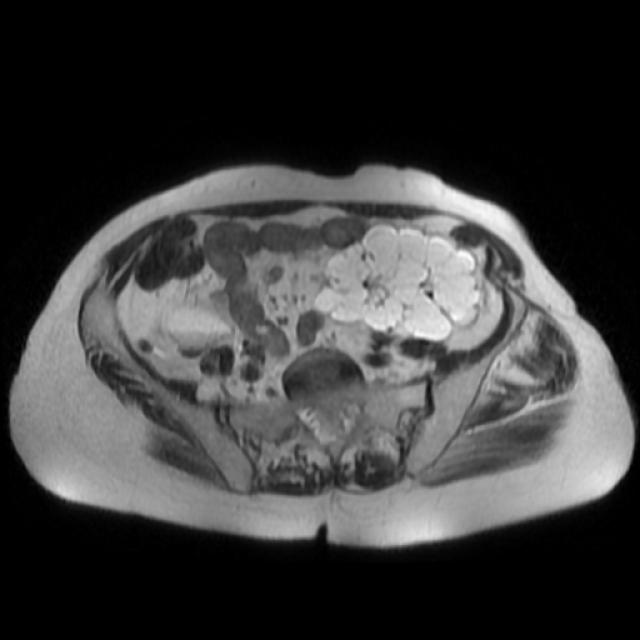sag: (165, 299, 233, 357)
sol: (310, 224, 483, 338)
